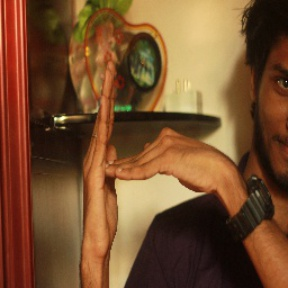Z: (74, 66, 227, 256)
